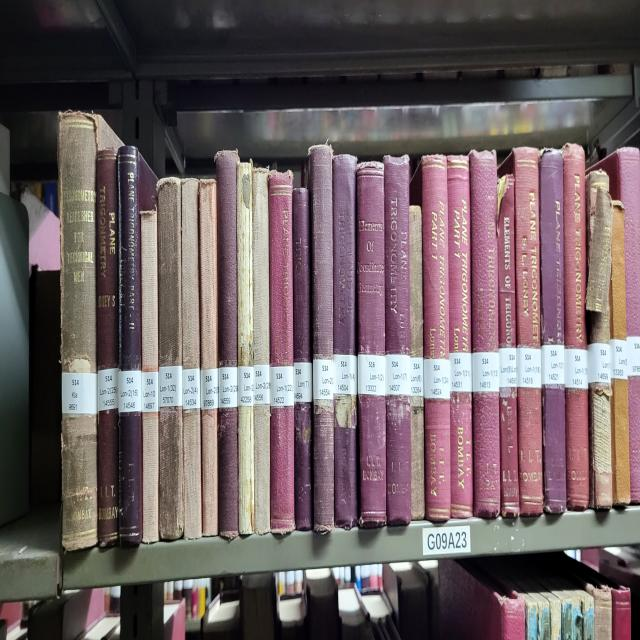Book: (58, 111, 120, 549), (599, 146, 640, 503), (512, 146, 544, 517), (469, 152, 500, 517), (421, 154, 451, 522), (356, 162, 386, 528), (562, 143, 590, 509), (384, 154, 411, 525), (539, 149, 566, 514), (309, 143, 334, 533), (332, 154, 358, 528), (118, 146, 142, 544), (269, 173, 295, 533), (158, 179, 184, 538), (215, 152, 239, 538), (96, 149, 119, 547), (585, 170, 612, 509), (448, 154, 472, 519), (498, 173, 520, 517), (181, 179, 201, 538), (199, 179, 219, 536), (292, 187, 312, 530), (609, 200, 631, 506), (252, 168, 270, 533), (140, 211, 159, 544), (238, 162, 254, 536), (409, 206, 425, 519)
Label: (61, 373, 98, 414), (358, 354, 386, 395), (424, 357, 450, 400), (516, 346, 541, 390), (472, 352, 499, 392), (385, 354, 411, 395), (159, 365, 182, 409), (565, 346, 588, 390), (270, 365, 294, 406), (334, 354, 358, 395), (541, 344, 565, 384), (119, 371, 141, 414), (449, 352, 472, 392), (588, 344, 611, 384), (98, 368, 119, 411), (312, 360, 334, 400), (219, 365, 238, 409), (182, 368, 201, 411), (200, 368, 219, 409), (141, 371, 159, 414), (610, 338, 628, 379), (294, 363, 312, 403), (499, 346, 516, 387), (238, 365, 254, 406), (254, 365, 270, 406), (410, 357, 424, 398)
